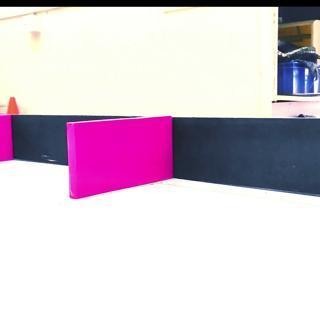xparking: (68, 122, 172, 190), (0, 116, 12, 160)
